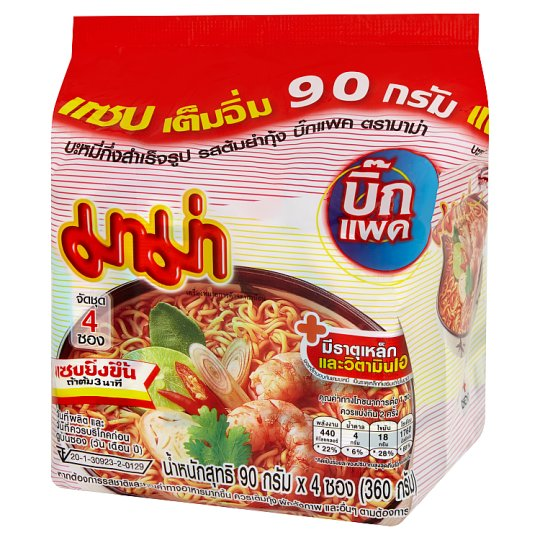Snack: (39, 11, 501, 531)
